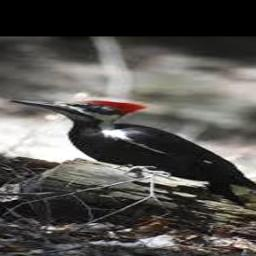Woodpecker: (11, 98, 256, 203)
